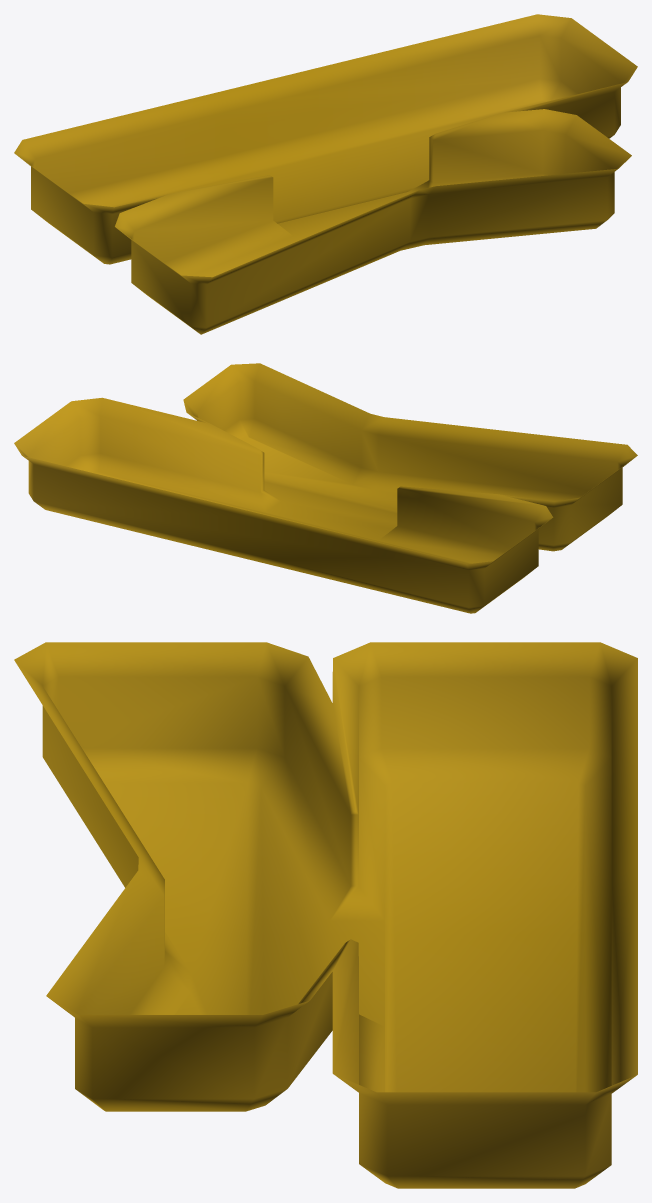
File: original-161.obj
The picture shows the model from 3 angles, top to bottom: view 1: azimuth 30°, elevation 25°; view 2: azimuth 150°, elevation 25°; view 3: azimuth 270°, elevation 25°; orthographic projection. The views are drawn at different scales.
Parts seen in each view (by area): view 1: #ID1063; view 2: #ID1063; view 3: #ID1063.
Part boxes in pixels (left/top/right/bottom): #ID1063: left=14, top=14, right=637, bottom=334; #ID1063: left=14, top=363, right=637, bottom=613; #ID1063: left=14, top=642, right=637, bottom=1188.
Bounding box in the file's own units: 0.0196 × 0.00241 × 0.0115.
Materials: 1 (1 with a texture image).
